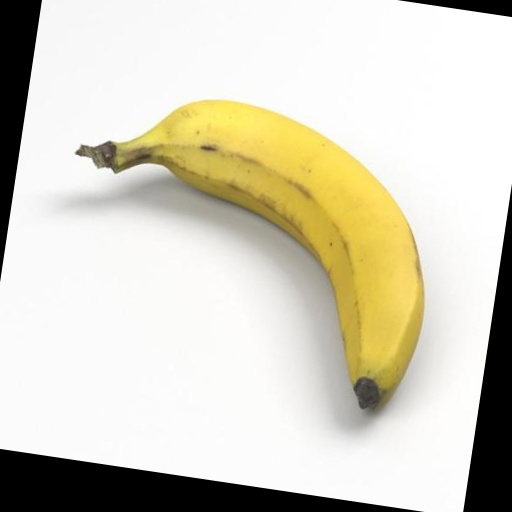fruit: (77, 100, 424, 408)
